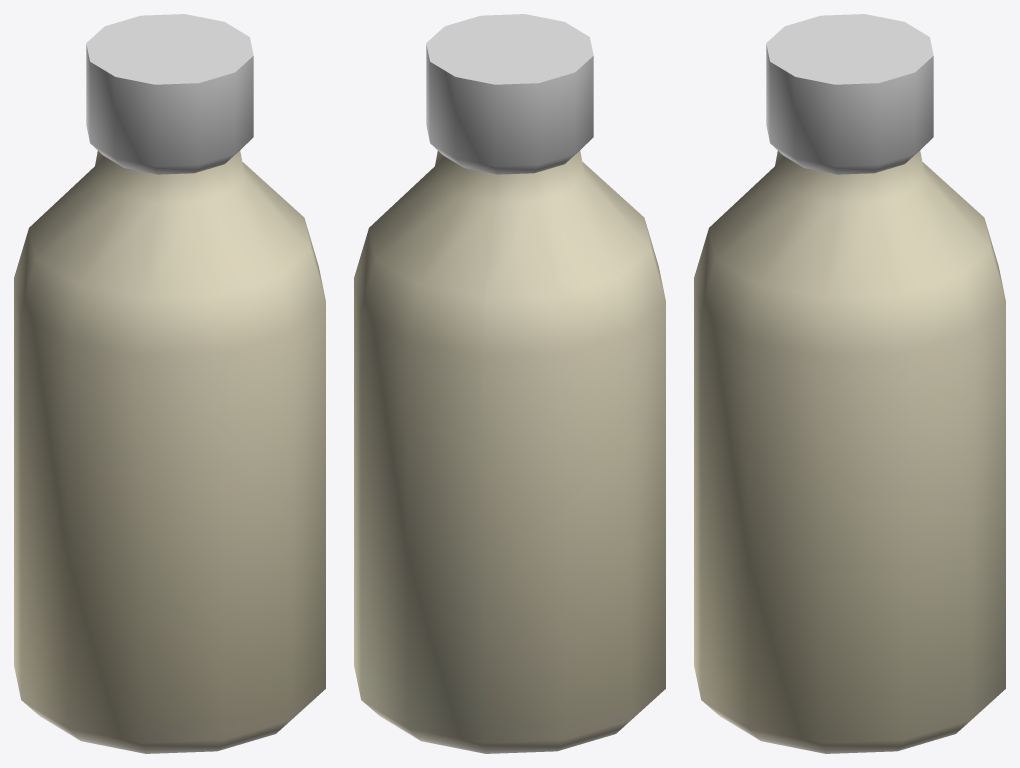
The model's file is SM_drink_tea_01.fbx.
3 views of the same model, side by side, from view 1: azimuth 30°, elevation 25°; view 2: azimuth 150°, elevation 25°; view 3: azimuth 270°, elevation 25° (orthographic).
Visible parts, largest first — view 1: Cylinder061; view 2: Cylinder061; view 3: Cylinder061.
Part boxes in pixels (<box>): Cylinder061: <box>14,14,325,753</box>; Cylinder061: <box>354,14,665,753</box>; Cylinder061: <box>694,14,1005,753</box>.
Bounding box in the file's own units: 8.86 × 20.28 × 8.86.
